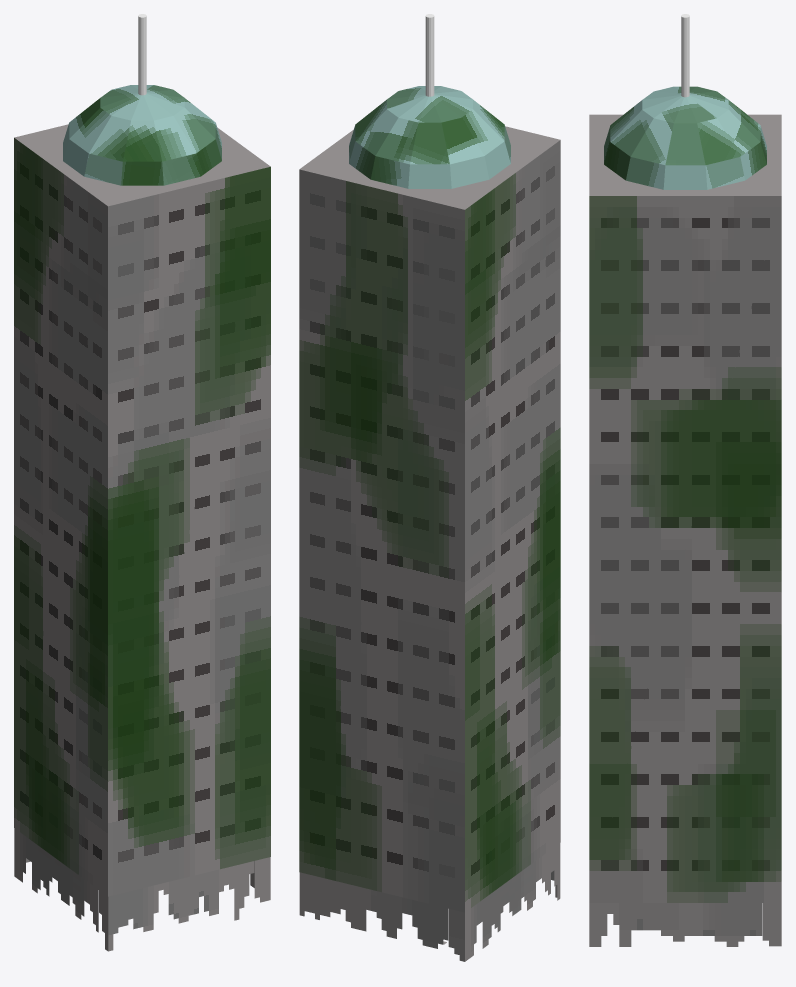
Rendered from Skybuilding 3.gltf.
3 renders of one model, left to right at view 1: azimuth 30°, elevation 25°; view 2: azimuth 150°, elevation 25°; view 3: azimuth 270°, elevation 25°, orthographic. The views are drawn at different scales.
Visible parts, largest first — view 1: Main, sphere, cube (×3), cylinder; view 2: Main, sphere, cube (×2), cylinder; view 3: Main, sphere, cube (×2), cylinder.
Boxes of the visible parts, x1,y1,x2,y2 form: Main: [14, 124, 270, 896]; sphere: [63, 85, 221, 185]; cube (×3): [14, 828, 270, 951]; cylinder: [138, 14, 146, 95]; Main: [299, 126, 560, 912]; sphere: [349, 86, 510, 188]; cube (×2): [299, 850, 550, 961]; cylinder: [425, 14, 434, 96]; Main: [589, 114, 781, 902]; sphere: [604, 86, 766, 189]; cube (×2): [589, 903, 781, 946]; cylinder: [681, 14, 689, 97].
Bounding box in the file's own units: 0.125 × 0.6623 × 0.125.
8 materials, 7 textured.
